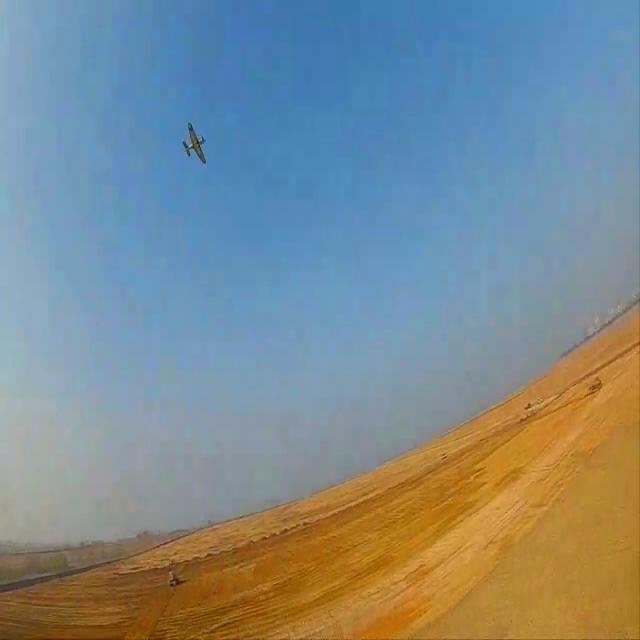iha: (182, 121, 206, 169)
